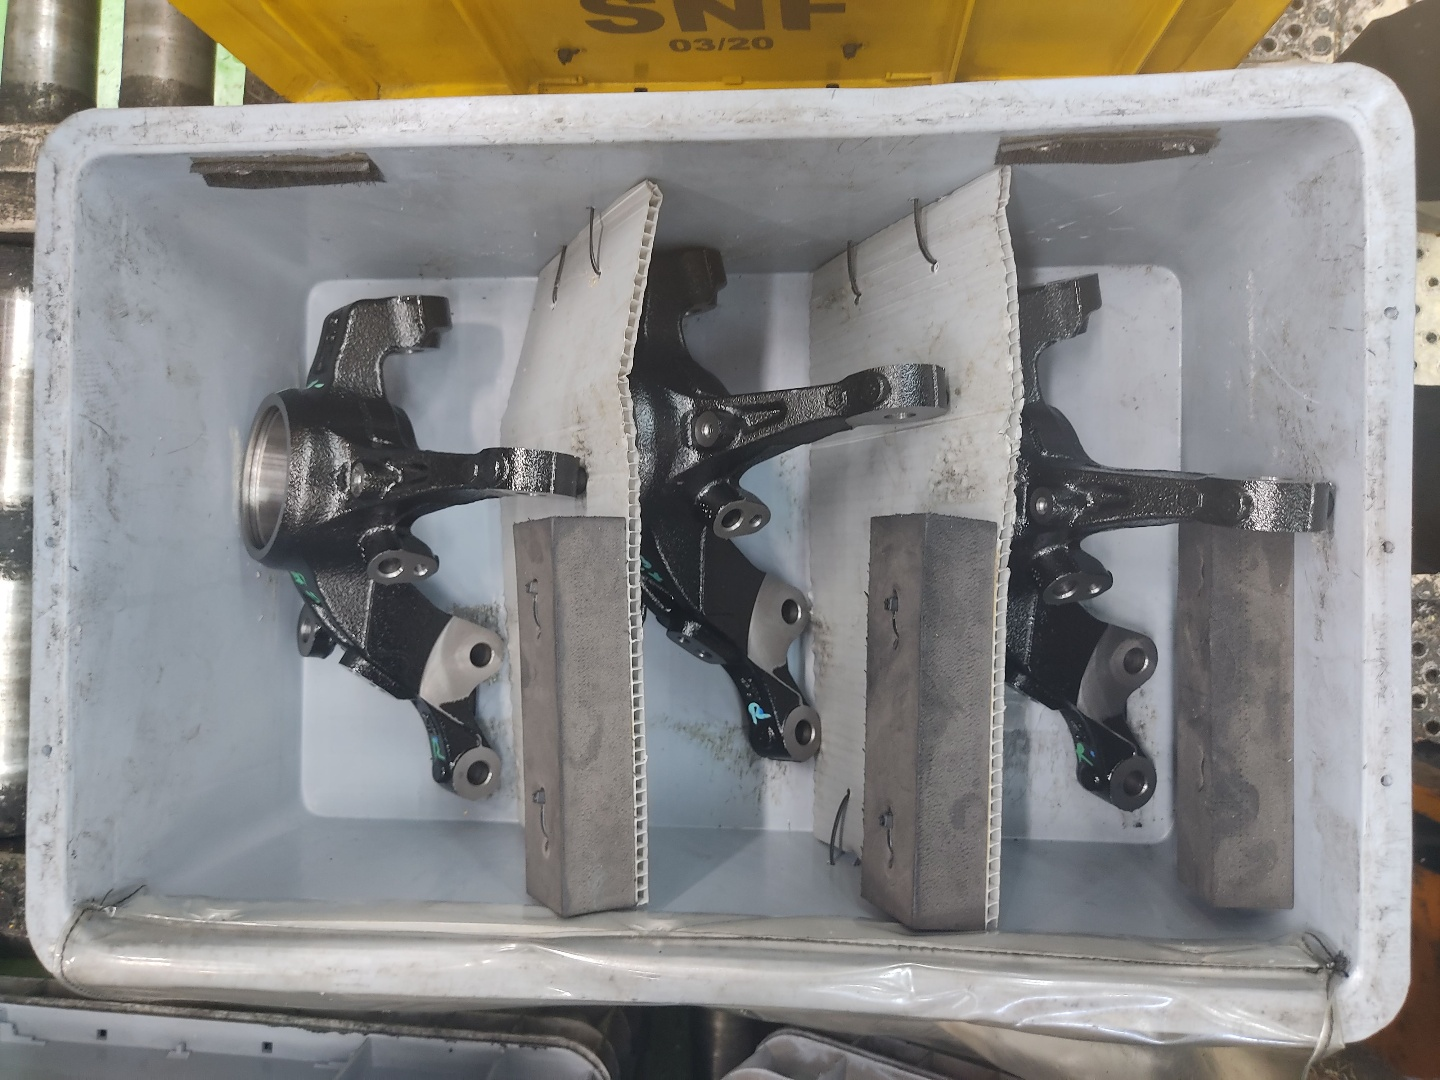abs-rh: (228, 288, 600, 809), (1007, 264, 1342, 825), (628, 235, 952, 771)
